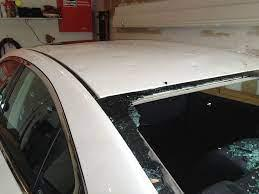Rear-windscreen-Damage: (90, 71, 258, 193)
